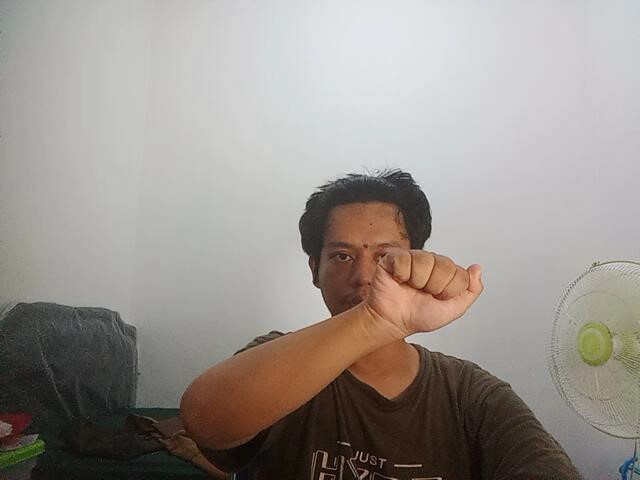A: (370, 246, 491, 335)
